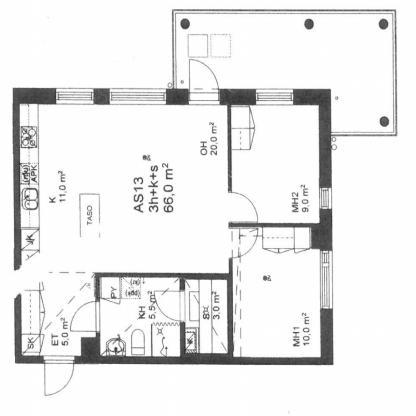door: (184, 58, 226, 106), (40, 353, 78, 398), (150, 288, 189, 324), (69, 300, 103, 338), (227, 225, 260, 262)
window: (105, 85, 170, 110), (313, 246, 336, 314), (53, 82, 98, 110), (252, 85, 300, 109), (316, 184, 335, 214)
